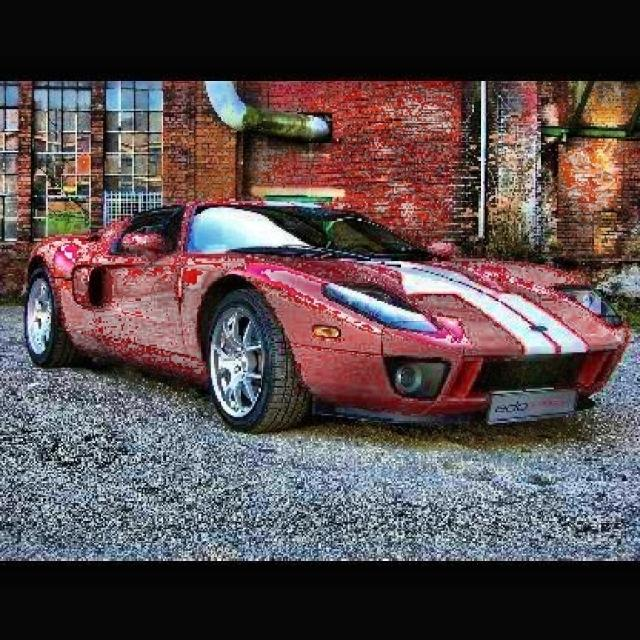maroon: (26, 192, 628, 414)
